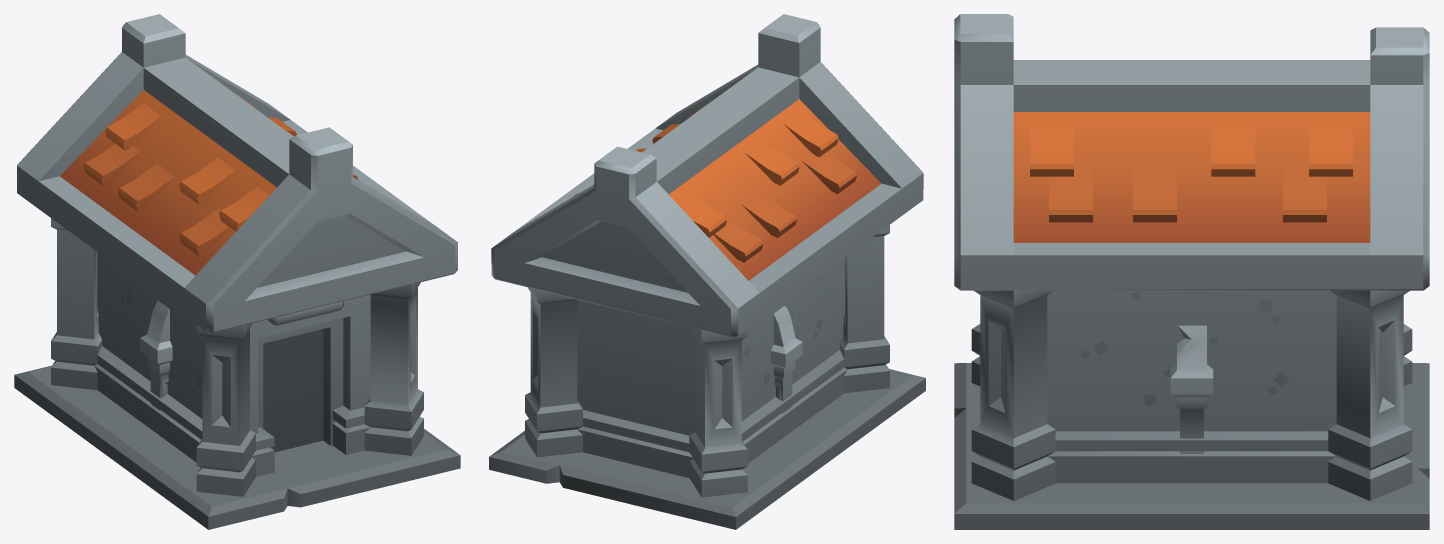
3 views of the same model, side by side, from view 1: azimuth 30°, elevation 25°; view 2: azimuth 150°, elevation 25°; view 3: azimuth 270°, elevation 25° (orthographic). The views are drawn at different scales.
Visible parts, largest first — view 1: crypt, arch; view 2: crypt, arch; view 3: crypt, arch.
Part boxes in pixels (x1,y1,x2,y2): crypt: (14, 14, 460, 529); arch: (140, 300, 172, 435); crypt: (489, 14, 925, 529); arch: (771, 306, 802, 436); crypt: (954, 14, 1429, 529); arch: (1170, 325, 1213, 453).
Bounding box in the file's own units: 6 × 8.39 × 8.
1 material, 1 textured.
